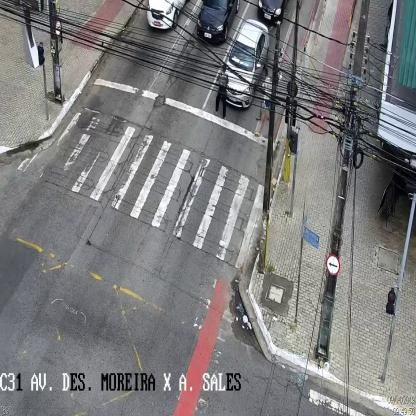car: (221, 18, 270, 107), (193, 0, 244, 44), (148, 0, 189, 30), (257, 2, 289, 27)
person: (214, 67, 230, 120), (258, 67, 272, 123)
